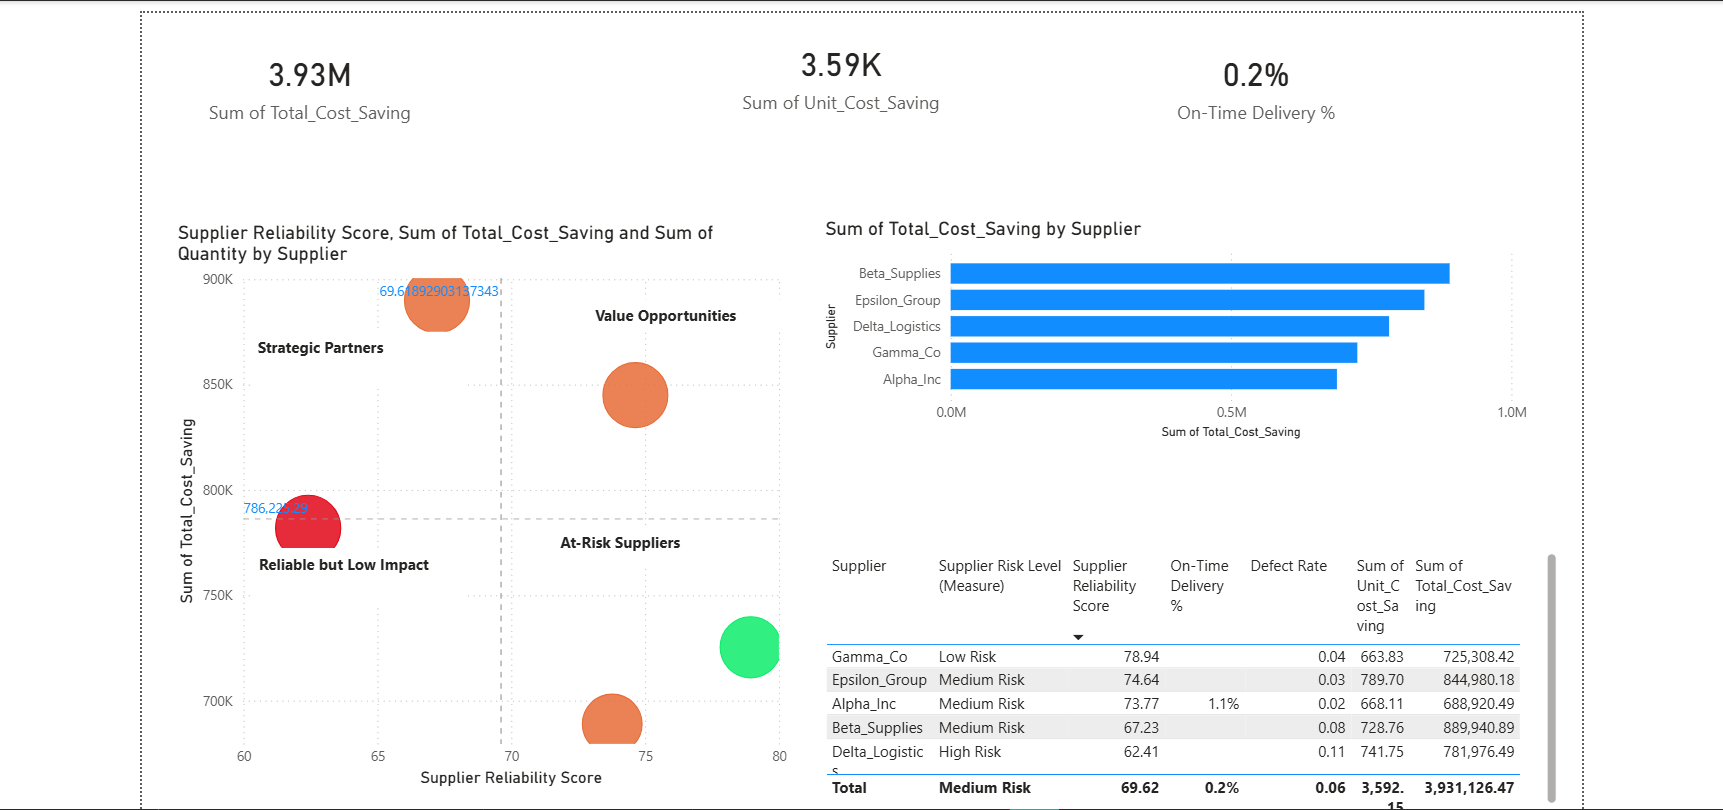

The dashboard page shown, as its layout file describes it:
{"tool":"powerbi","page":{"name":"Financial Impact & Action Prioritization","canvas":[1280,720],"ordinal":2},"visuals":[{"type":"card","fields":{"Values":["Sum(Sheet1.Total_Cost_Saving)"]},"box":[10.5,0,278.8,127.4],"z":0},{"type":"card","fields":{"Values":["Sum(Sheet1.Unit_Cost_Saving)"]},"box":[482.7,0,278.8,109.4],"z":1000},{"type":"card","fields":{"Values":["Sheet1.On-Time Delivery %"]},"box":[851.5,0,278.8,127.4],"z":2000},{"type":"scatterChart","fields":{"X":["Sheet1.Supplier Reliability Score"],"Y":["Sum(Sheet1.Total_Cost_Saving)"],"Category":["Sheet1.Supplier"],"Size":["Sum(Sheet1.Quantity)"]},"box":[27,184.4,551.7,508.2],"z":3000},{"type":"clusteredBarChart","fields":{"Y":["Sum(Sheet1.Total_Cost_Saving)"],"Category":["Sheet1.Supplier"]},"box":[602.7,181.4,634.2,202.4],"z":4000},{"type":"textbox","box":[97.4,283.3,191.9,49.5],"z":6000},{"type":"textbox","box":[397.3,254.9,191.9,28.5],"z":7000},{"type":"textbox","box":[98.9,475.2,190.4,52.5],"z":8000},{"type":"textbox","box":[367,456.5,191.6,37.3],"z":9000},{"type":"tableEx","fields":{"Values":["Sheet1.Supplier","Sheet1.Supplier Risk Level (Measure)","Sheet1.Supplier Reliability Score","Sheet1.On-Time Delivery %","Sheet1.Defect Rate","Sum(Sheet1.Unit_Cost_Saving)","Sum(Sheet1.Total_Cost_Saving)"]},"box":[602.1,475.2,660.5,243.8],"z":9001}]}

Visuals, with their boxes on the page's 1280x720 design canvas (x1, y1, x2, y2). These are canvas units, not pixel positions in the 1723x810 screenshot, which may show the page scaled, cropped or inside an application window:
card - Sum(Sheet1.Total_Cost_Saving): detection(10, 0, 289, 127)
card - Sum(Sheet1.Unit_Cost_Saving): detection(483, 0, 762, 109)
card - Sheet1.On-Time Delivery %: detection(852, 0, 1130, 127)
scatterChart - Sheet1.Supplier Reliability Score x Sum(Sheet1.Total_Cost_Saving): detection(27, 184, 579, 693)
clusteredBarChart - Sum(Sheet1.Total_Cost_Saving) x Sheet1.Supplier: detection(603, 181, 1237, 384)
textbox: detection(97, 283, 289, 333)
textbox: detection(397, 255, 589, 283)
textbox: detection(99, 475, 289, 528)
textbox: detection(367, 456, 559, 494)
tableEx - Sheet1.Supplier x Sheet1.Supplier Risk Level (Measure): detection(602, 475, 1263, 719)
